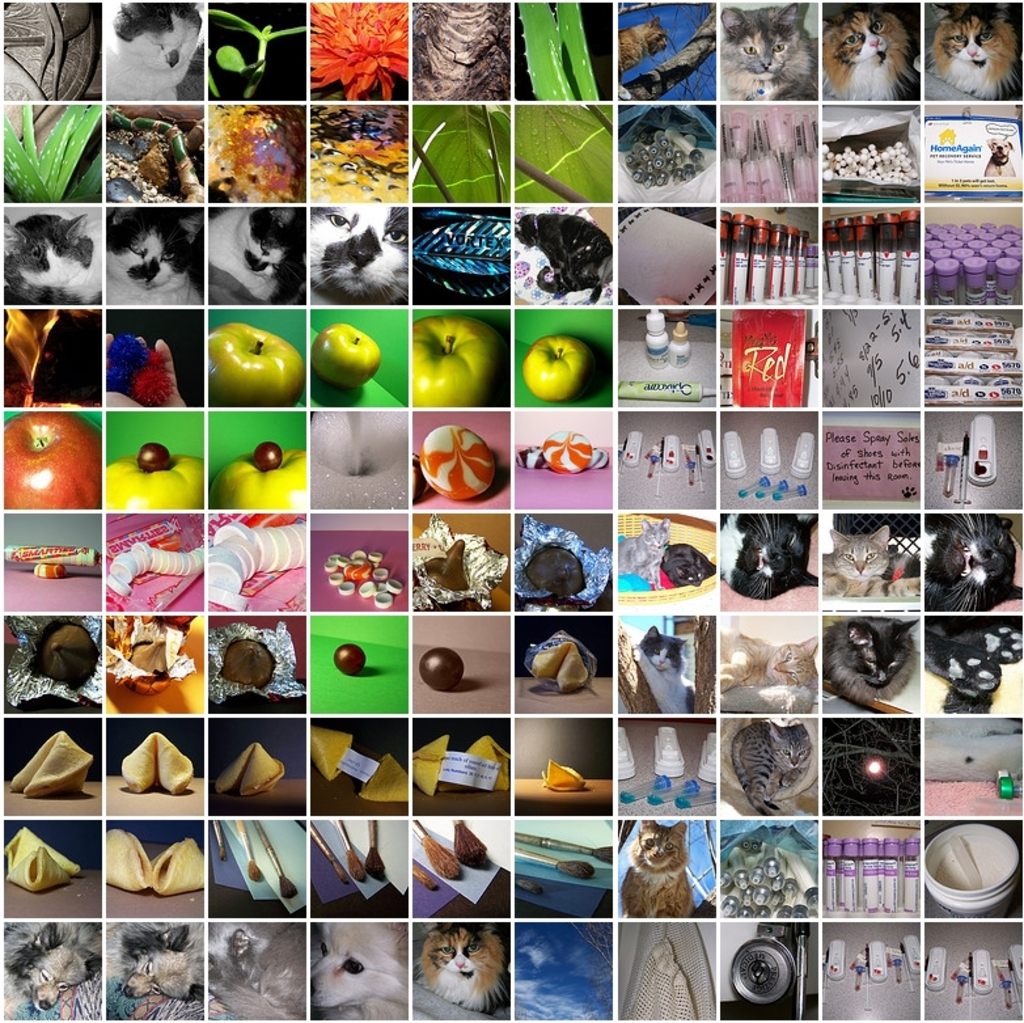Apple: (0, 411, 103, 509), (413, 311, 505, 400), (210, 324, 301, 409), (205, 454, 305, 513), (100, 461, 201, 508), (522, 335, 590, 403), (314, 323, 383, 387)
